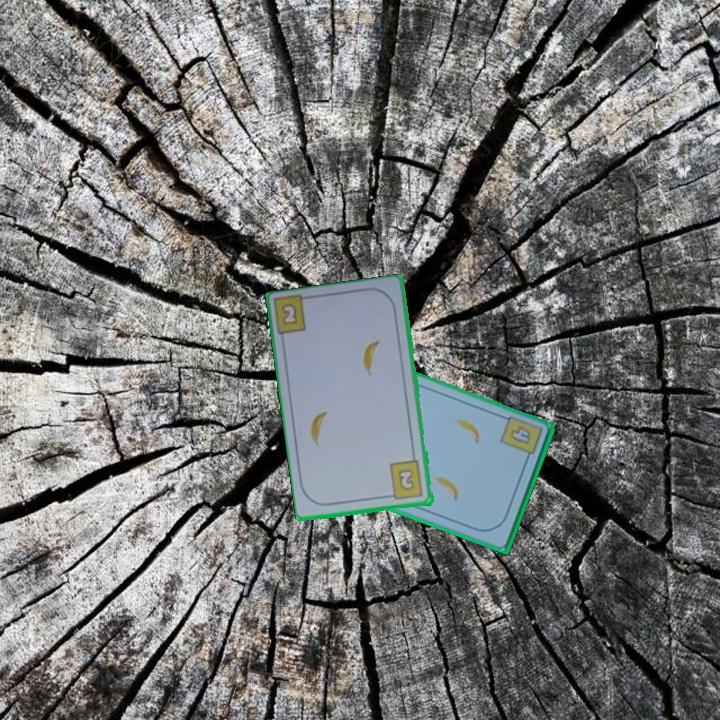2b: (384, 457, 426, 503), (278, 300, 301, 328)
4b: (506, 423, 533, 448)
